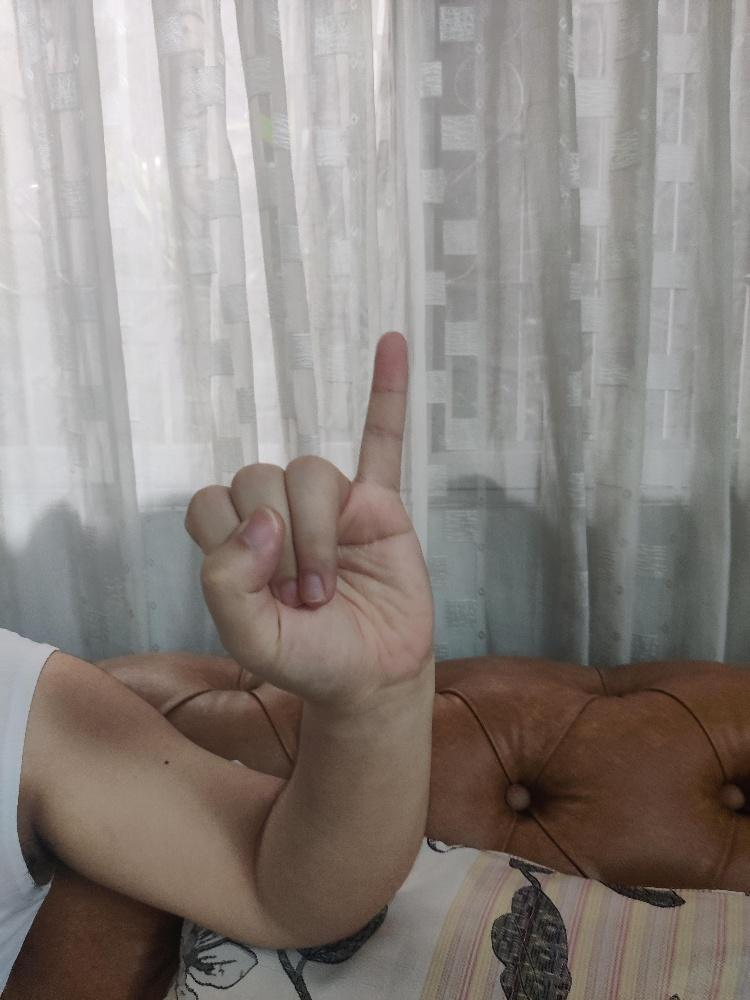i: (183, 328, 439, 699)
